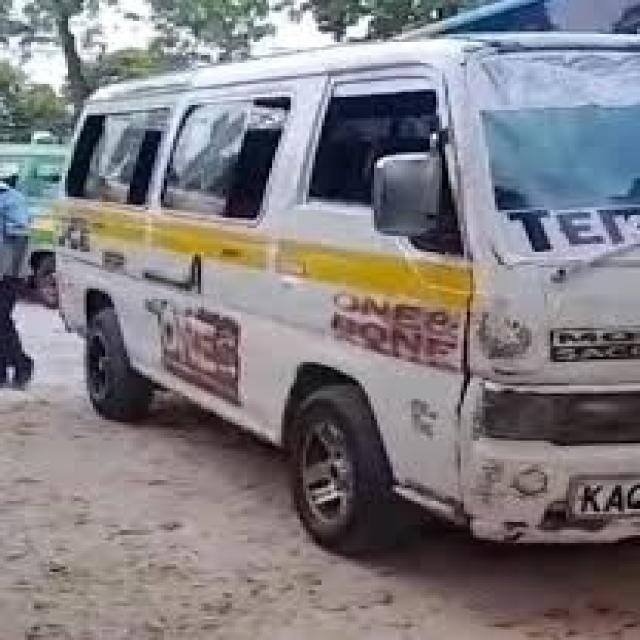matatu: (34, 10, 640, 582)
